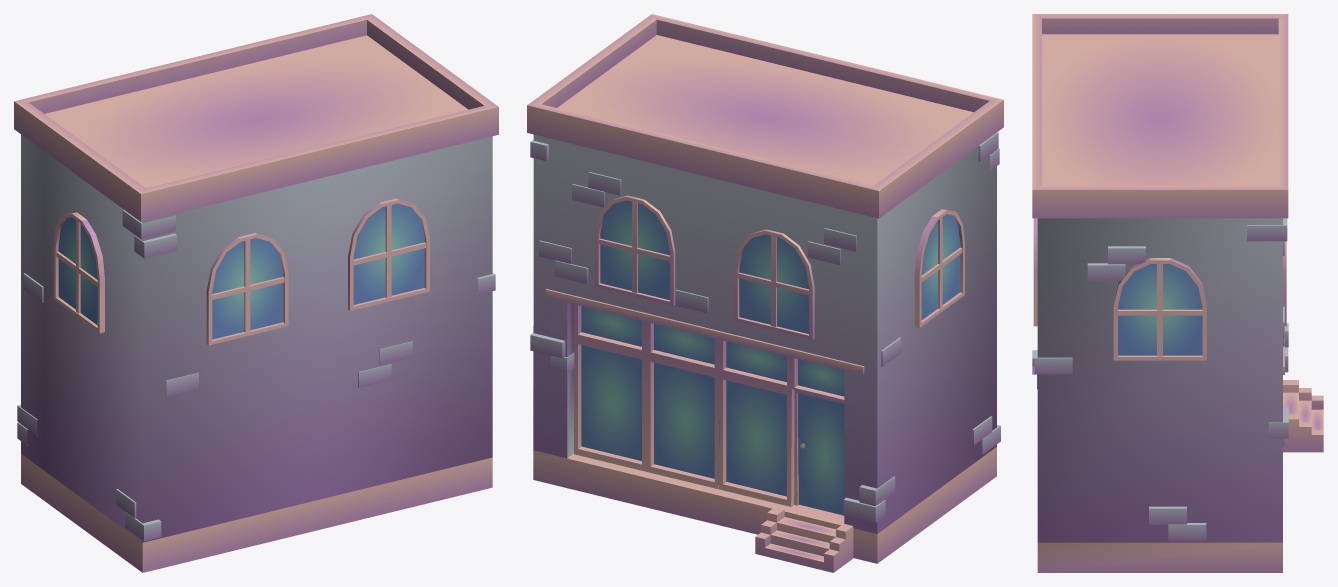
The model's file is SM_2F_Half_08.fbx.
3 views of the same model, side by side, from view 1: azimuth 30°, elevation 25°; view 2: azimuth 150°, elevation 25°; view 3: azimuth 270°, elevation 25° (orthographic). The views are drawn at different scales.
Visible parts, largest first — view 1: SM_2F_Half_08; view 2: SM_2F_Half_08; view 3: SM_2F_Half_08.
Part boxes in pixels (x1,y1,x2,y2): SM_2F_Half_08: [14, 14, 498, 572]; SM_2F_Half_08: [527, 14, 1003, 572]; SM_2F_Half_08: [1032, 14, 1323, 572].
Size of the model in its own units: 7.91 by 5.51 by 8.03.
